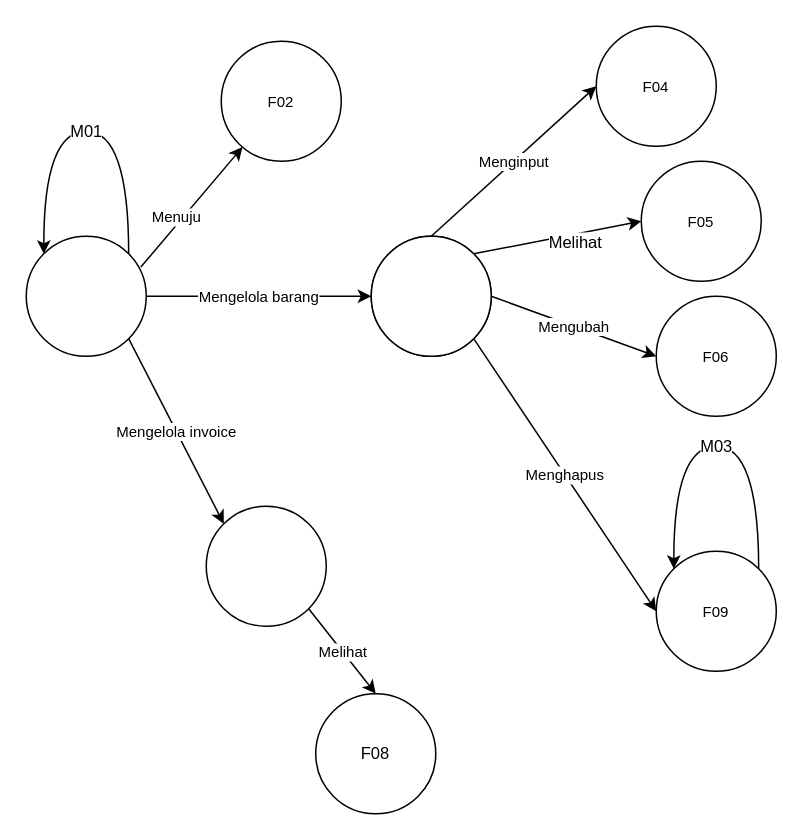
Some shapes in this 803 by 840 pixel diagram are drawn without their labels. The centre of each missing label's shape, as x and y in pixels:
F01: the point at 85,295
F03: the point at 430,295
F07: the point at 265,565
